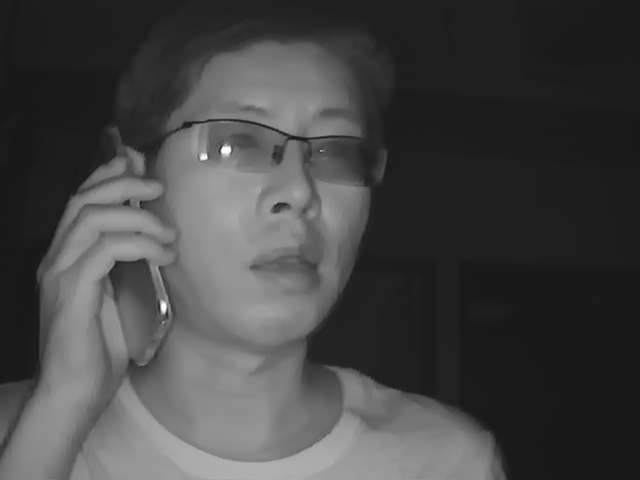hand: (42, 168, 173, 369)
